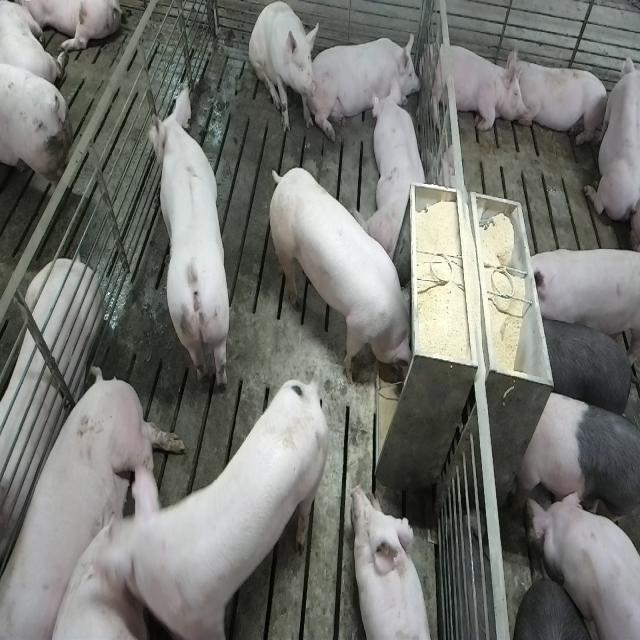Feeding: (273, 166, 421, 390)
Lateral_lying: (3, 362, 187, 635), (0, 256, 102, 597)
Sitting: (249, 2, 319, 137)
Standing: (128, 370, 335, 632), (148, 85, 232, 398), (517, 385, 639, 562), (522, 485, 638, 640), (523, 245, 637, 355), (536, 313, 637, 418)
Sternal_lying: (351, 485, 434, 640), (313, 27, 422, 137), (368, 84, 430, 262), (584, 43, 637, 237), (426, 37, 525, 135), (512, 52, 610, 149)
